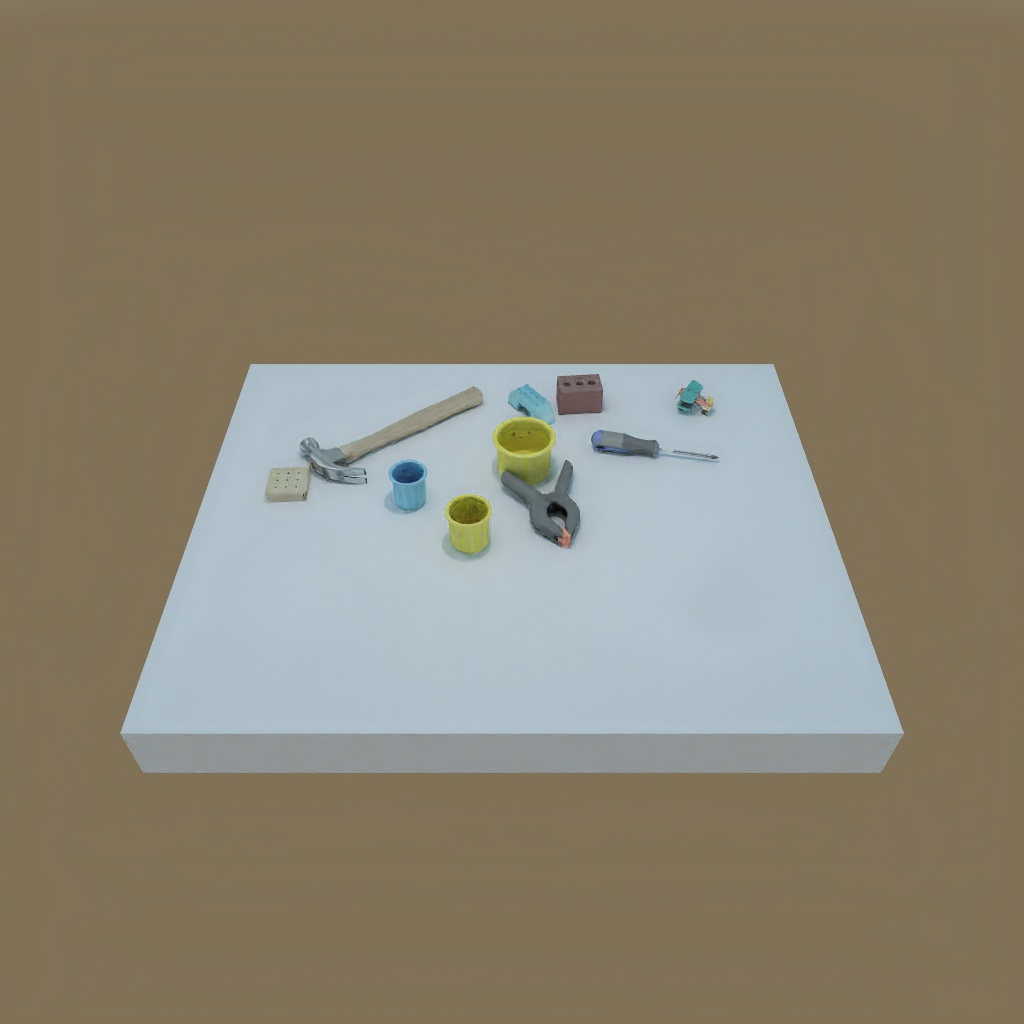hammer: (296, 385, 485, 485)
nine_hole_peg_test: (262, 456, 313, 500)
